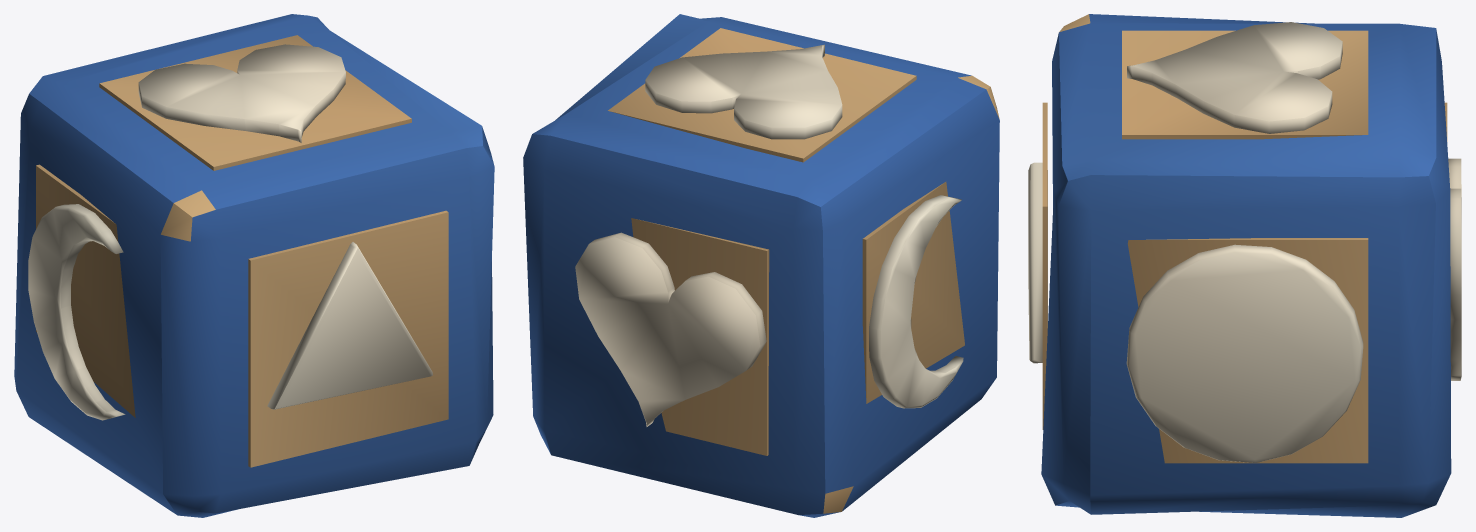
Rendered from den_block_blue_lod1.glb.
The picture shows the model from 3 angles, left to right: view 1: azimuth 30°, elevation 25°; view 2: azimuth 150°, elevation 25°; view 3: azimuth 270°, elevation 25°; orthographic projection. The views are drawn at different scales.
Visible parts, largest first — view 1: den_block_blue.001; view 2: den_block_blue.001; view 3: den_block_blue.001.
Boxes of the visible parts, x1,y1,x2,y2 form: den_block_blue.001: (14, 14, 494, 517); den_block_blue.001: (523, 14, 999, 517); den_block_blue.001: (1028, 14, 1461, 517).
Bounding box in the file's own units: 4.93 × 4.82 × 4.93.
